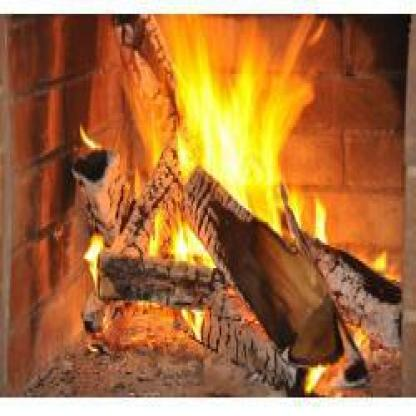fire: (78, 13, 404, 340), (290, 344, 352, 395)
